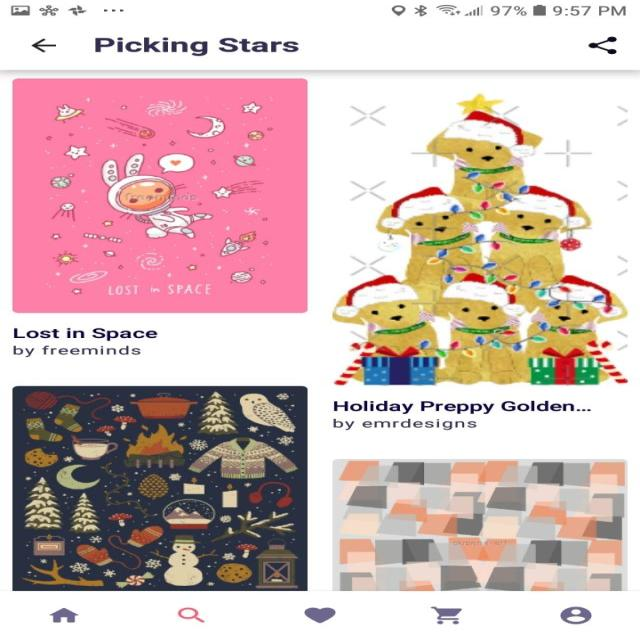Icon: (430, 605, 462, 624), (559, 605, 591, 624), (587, 36, 617, 55), (303, 607, 336, 623), (48, 607, 78, 622), (177, 607, 204, 622), (31, 38, 57, 53)
Image: (332, 92, 628, 385), (12, 78, 308, 313), (12, 386, 308, 590), (332, 458, 628, 590)
Text: (94, 37, 299, 56), (333, 400, 591, 414), (14, 328, 158, 341), (332, 418, 477, 430), (12, 345, 140, 357)
